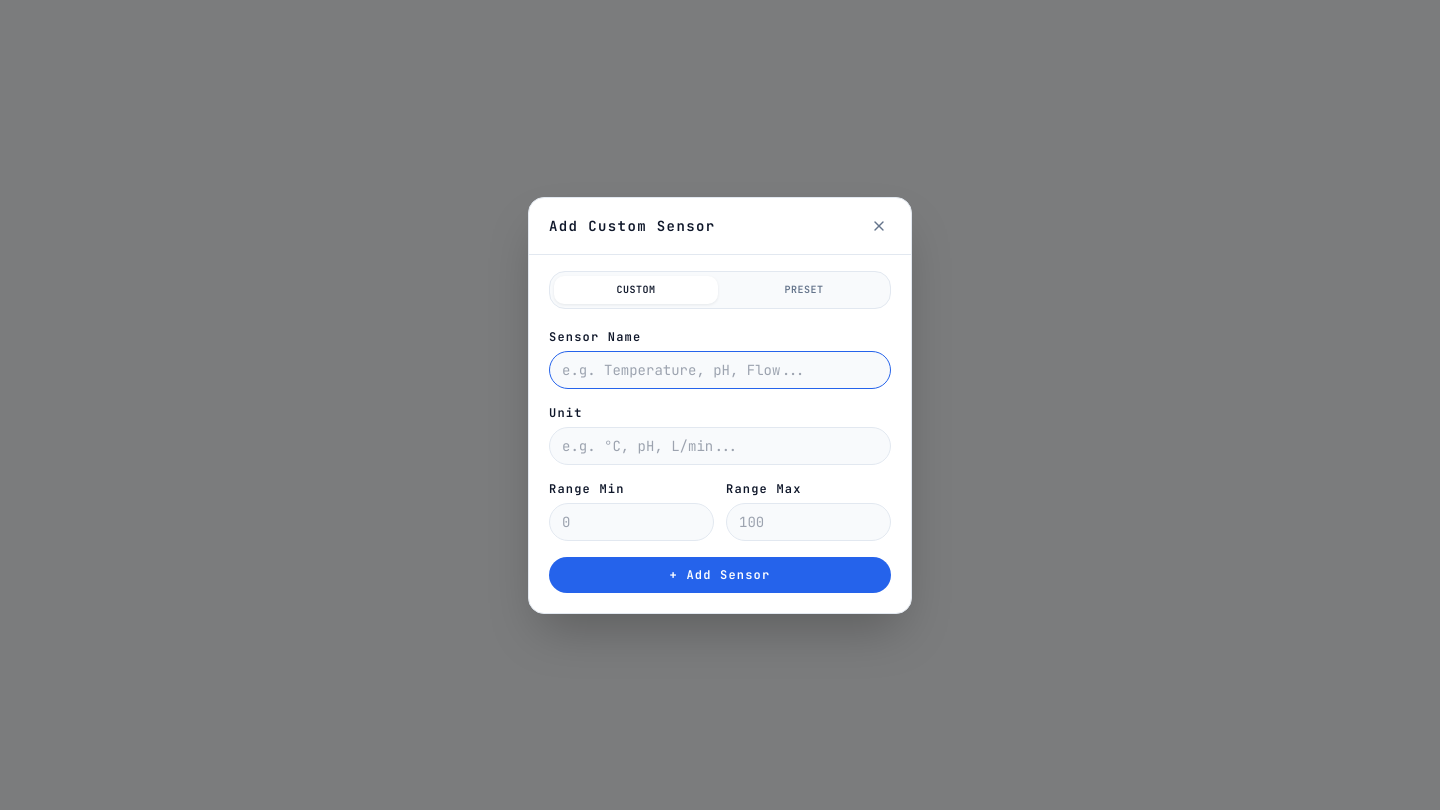
Test case: AddSensorModal › switches to preset mode
Click the button "PRESET" at (804,290), box [722,276,886,304]
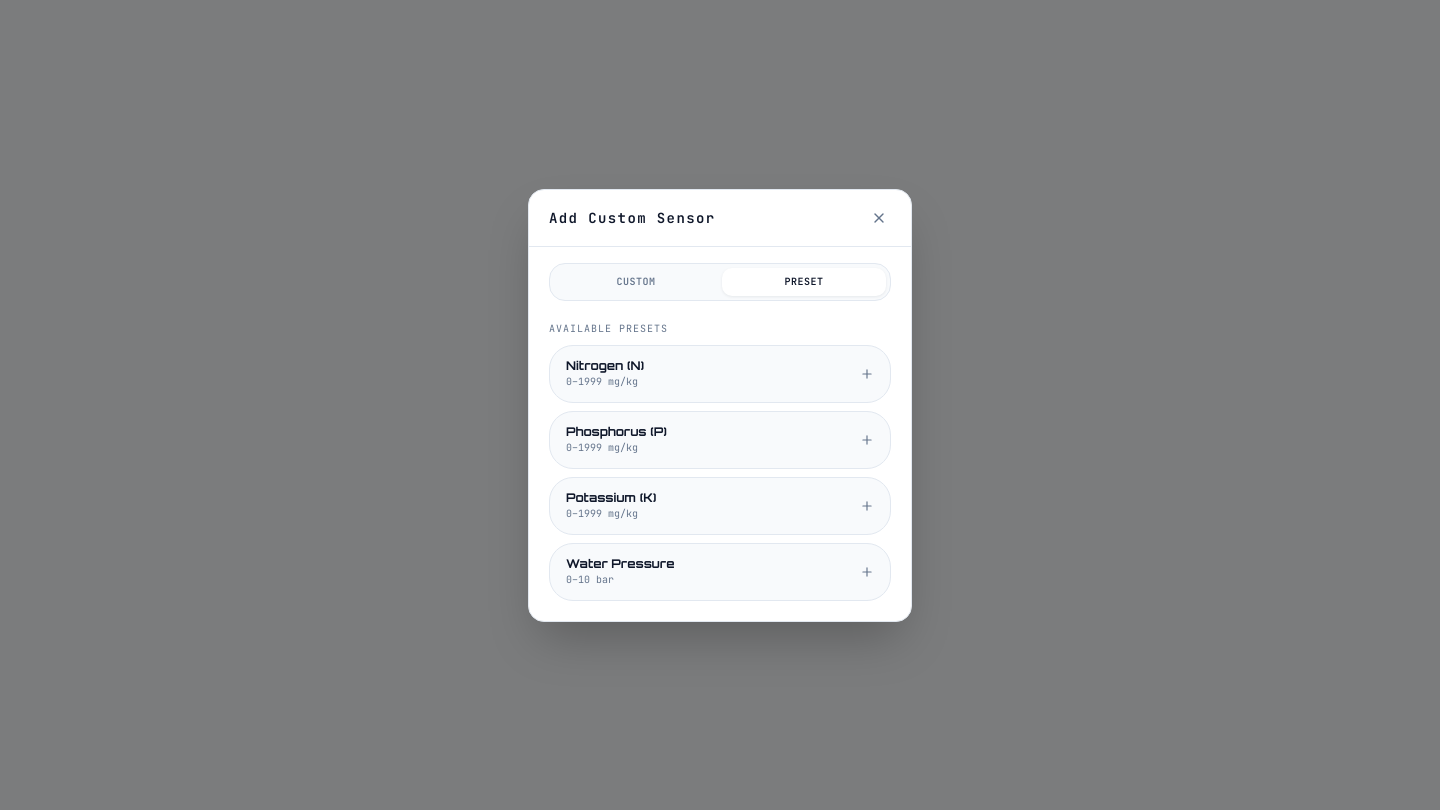
Expected: the text "AVAILABLE PRESETS" is shown, [549,322,668,334]
